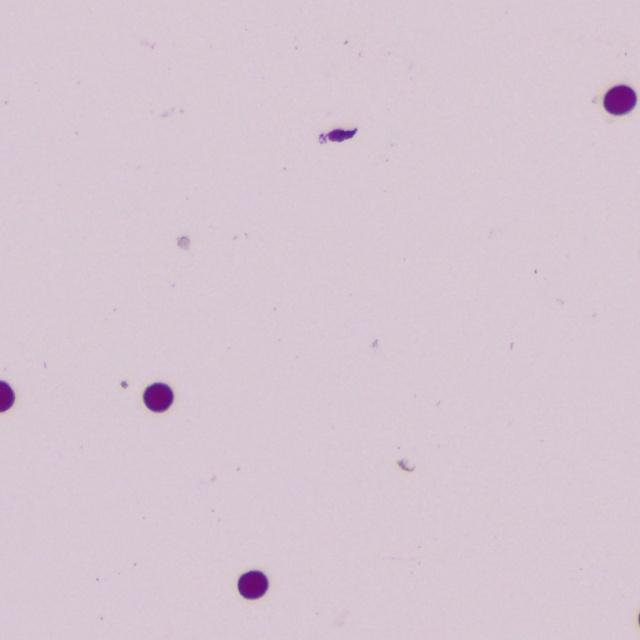viable: (604, 85, 636, 115), (238, 570, 268, 598), (144, 383, 172, 411), (0, 381, 14, 411)
